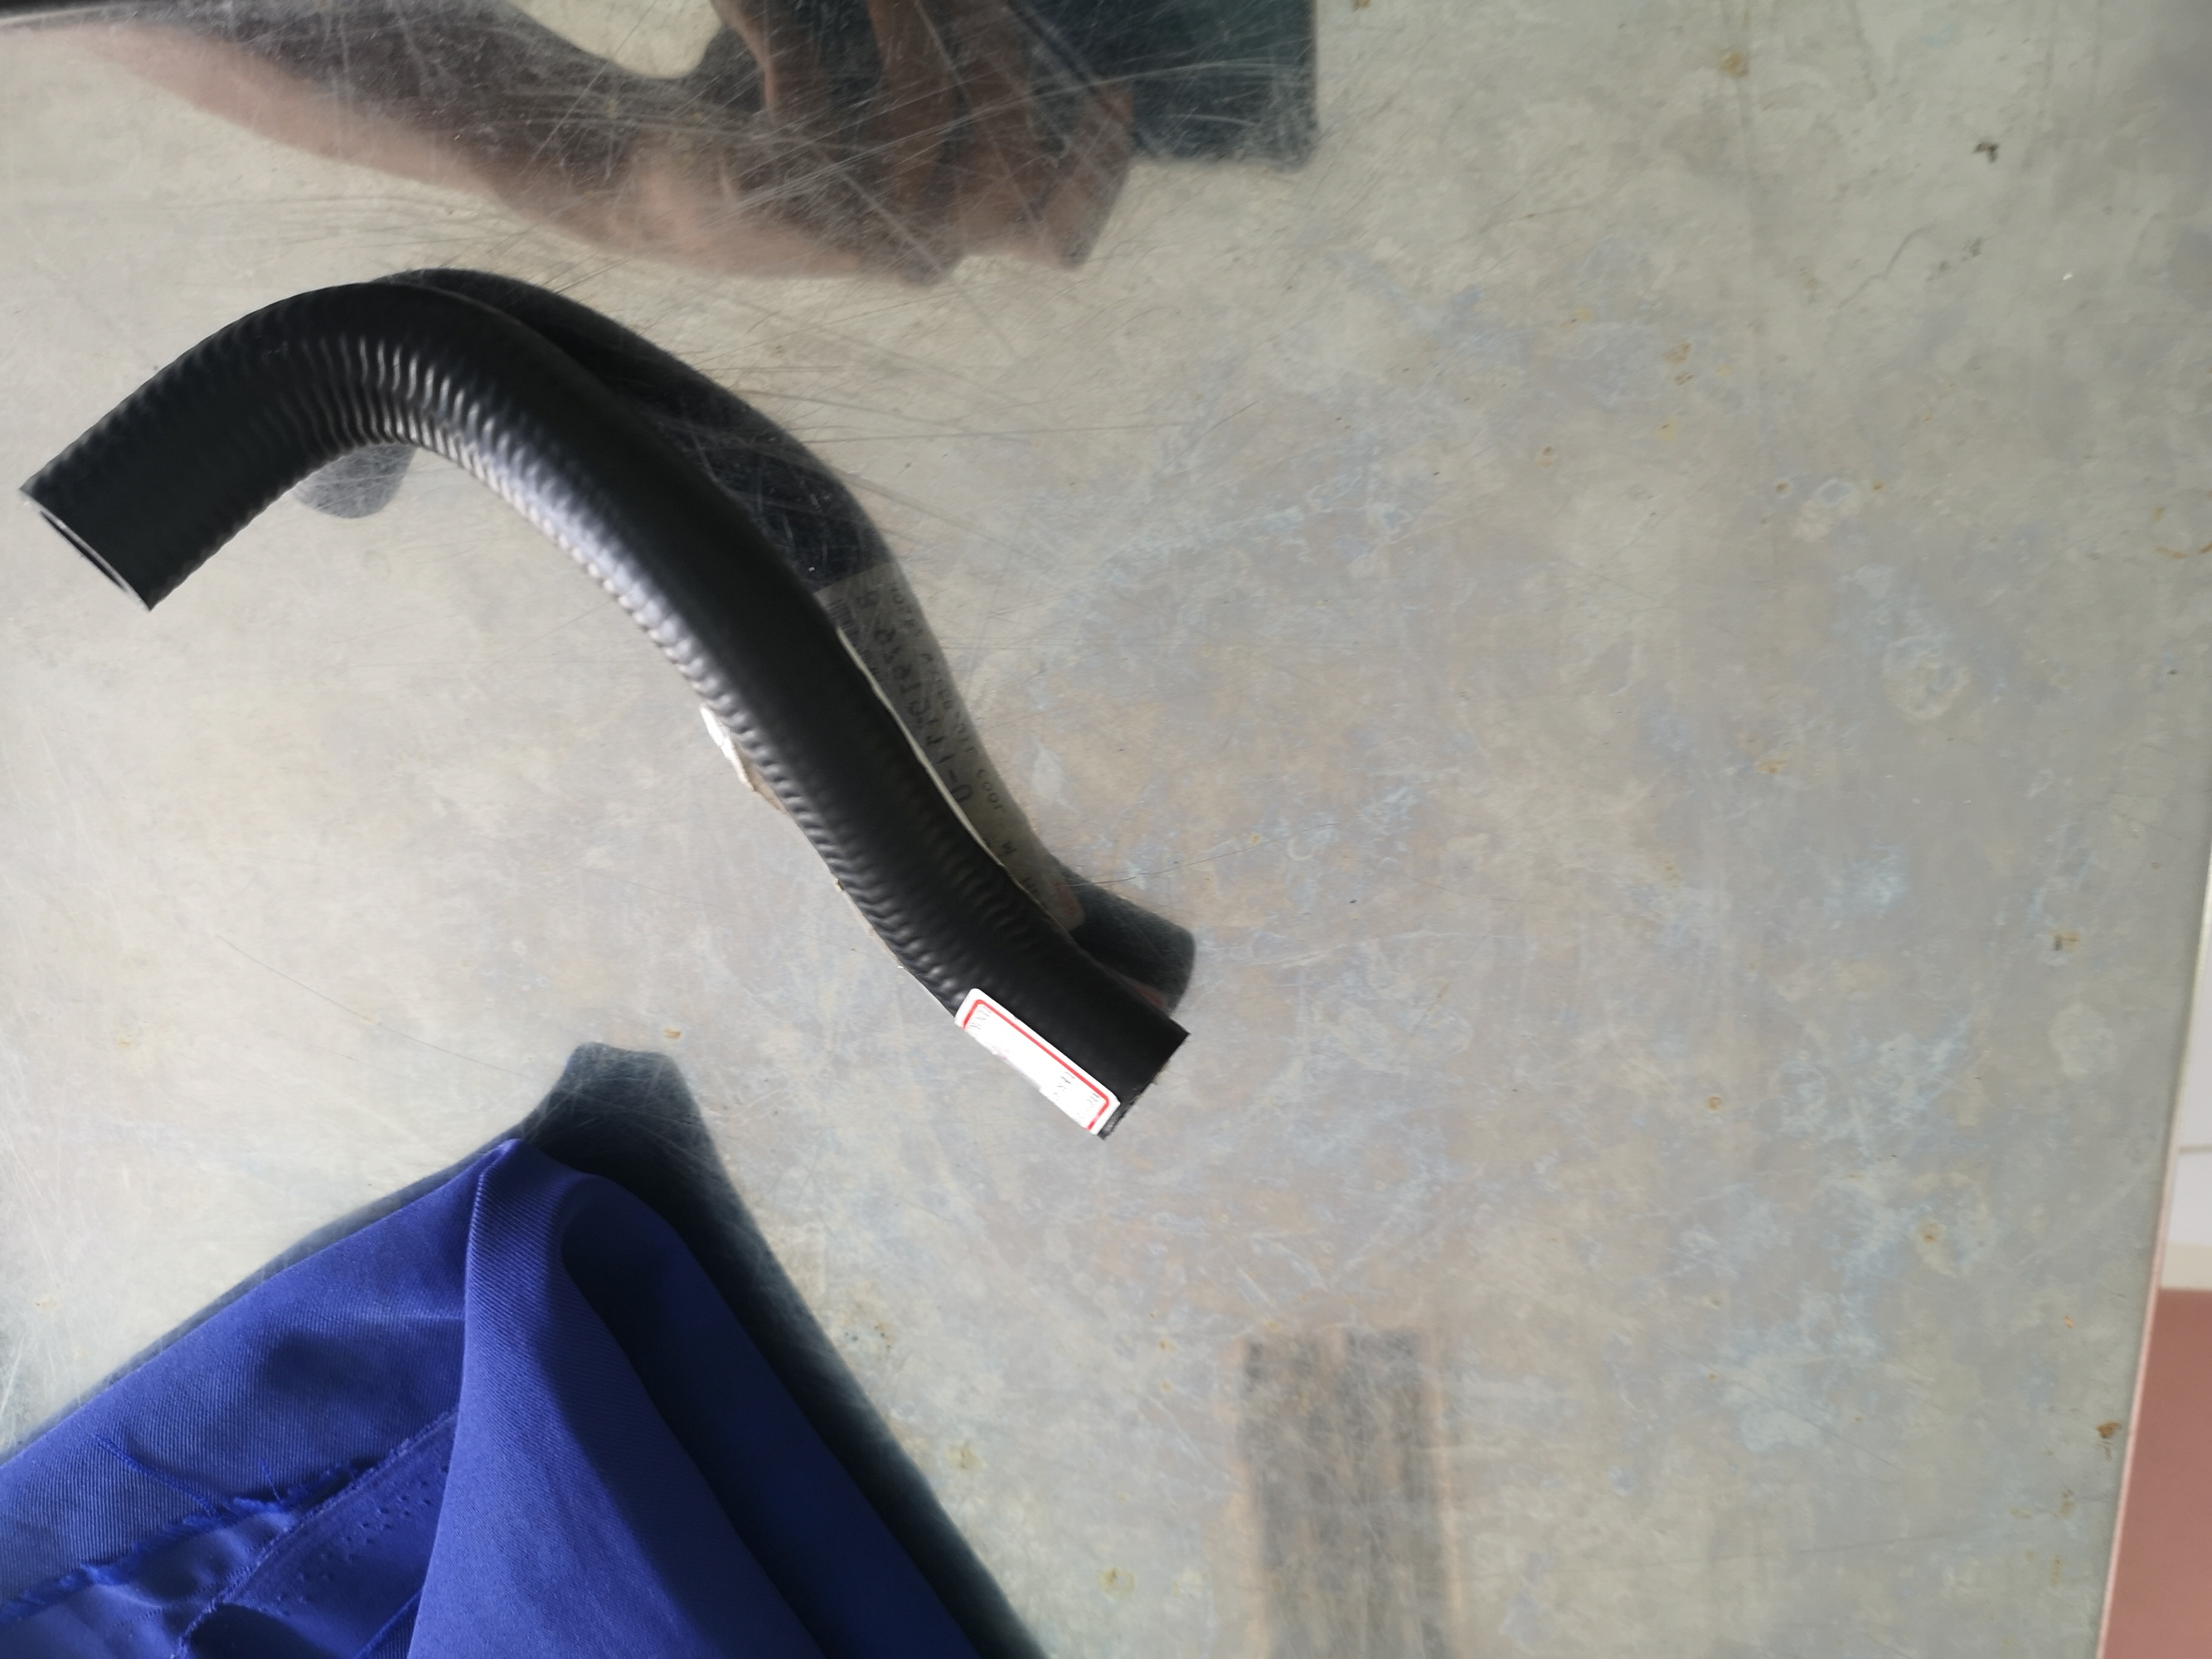ท่อยางน้ำมันเลี้ยงเทอร์โบ: (12, 56, 1224, 1204)
